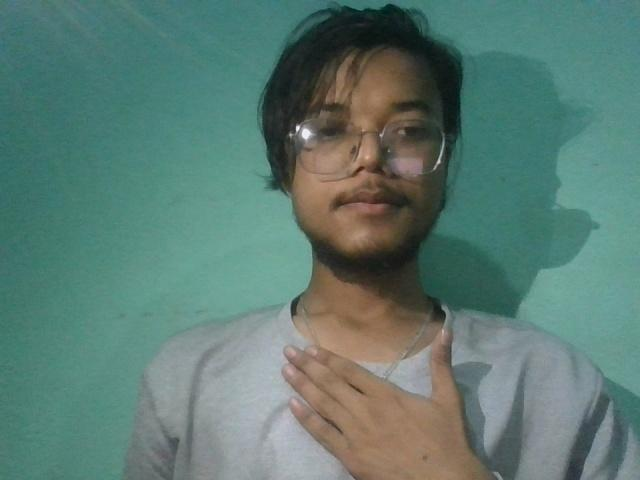Please: (176, 275, 594, 479)
